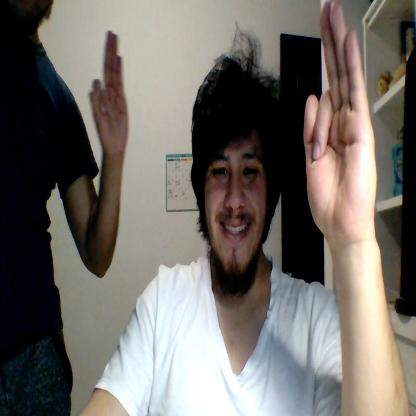F: (304, 0, 377, 237), (89, 29, 128, 156)
